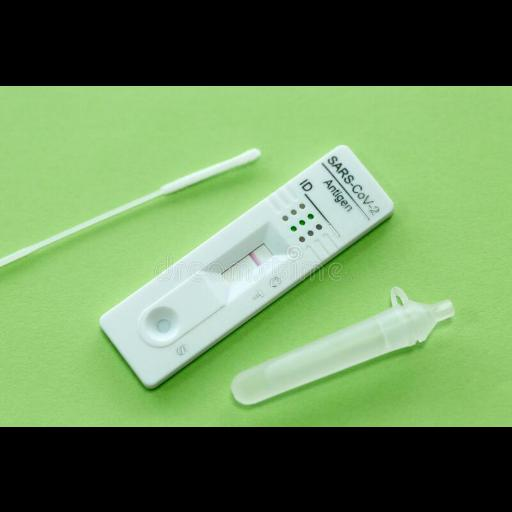Neg: (97, 140, 397, 385)
